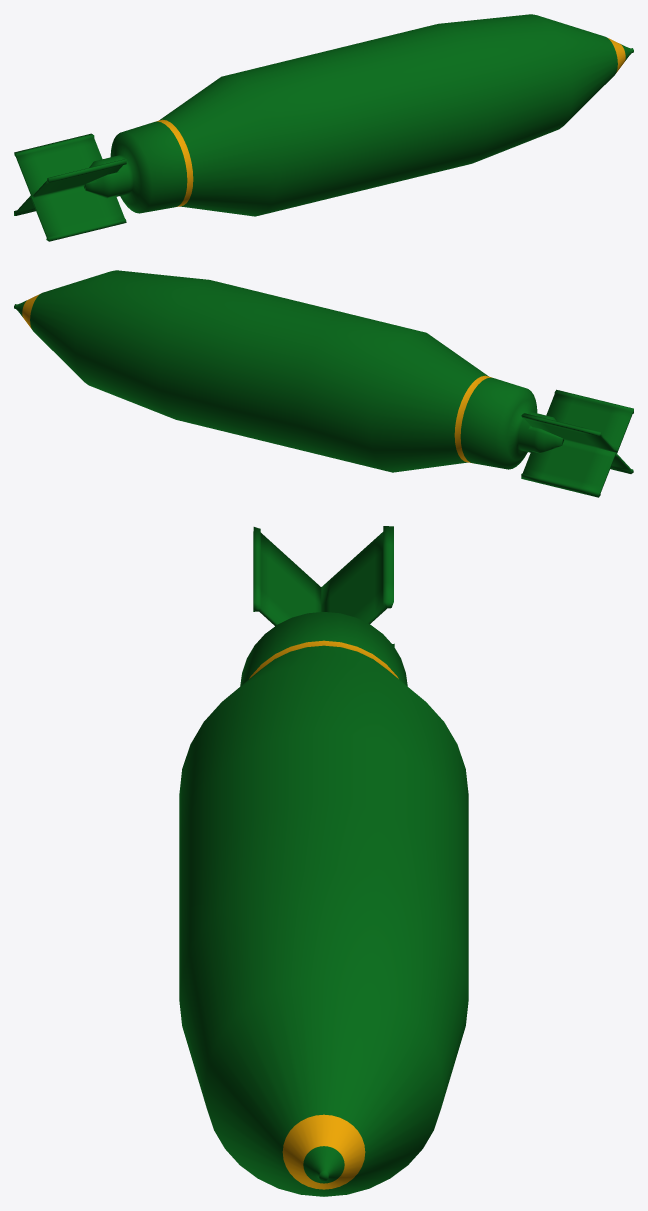
The model's file is fivehundredlbbomb.fbx.
3 views of the same model, one above another, from view 1: azimuth 30°, elevation 25°; view 2: azimuth 150°, elevation 25°; view 3: azimuth 270°, elevation 25° (orthographic). The views are drawn at different scales.
Parts seen in each view (by area): view 1: Plane; view 2: Plane; view 3: Plane.
Part boxes in pixels (x1=…): Plane: x1=14, y1=14, x2=633, y2=241; Plane: x1=14, y1=270, x2=633, y2=497; Plane: x1=179, y1=526, x2=468, y2=1196.
Size of the model in its own units: 960 by 200 by 200.
